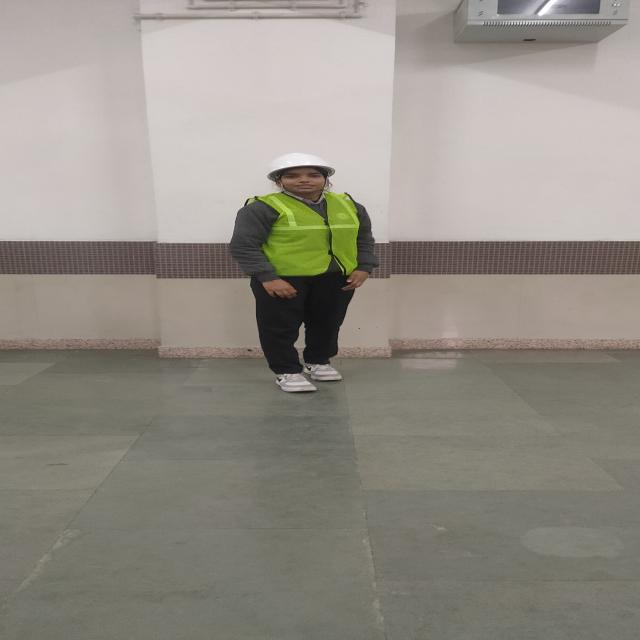safe: (228, 153, 379, 392)
